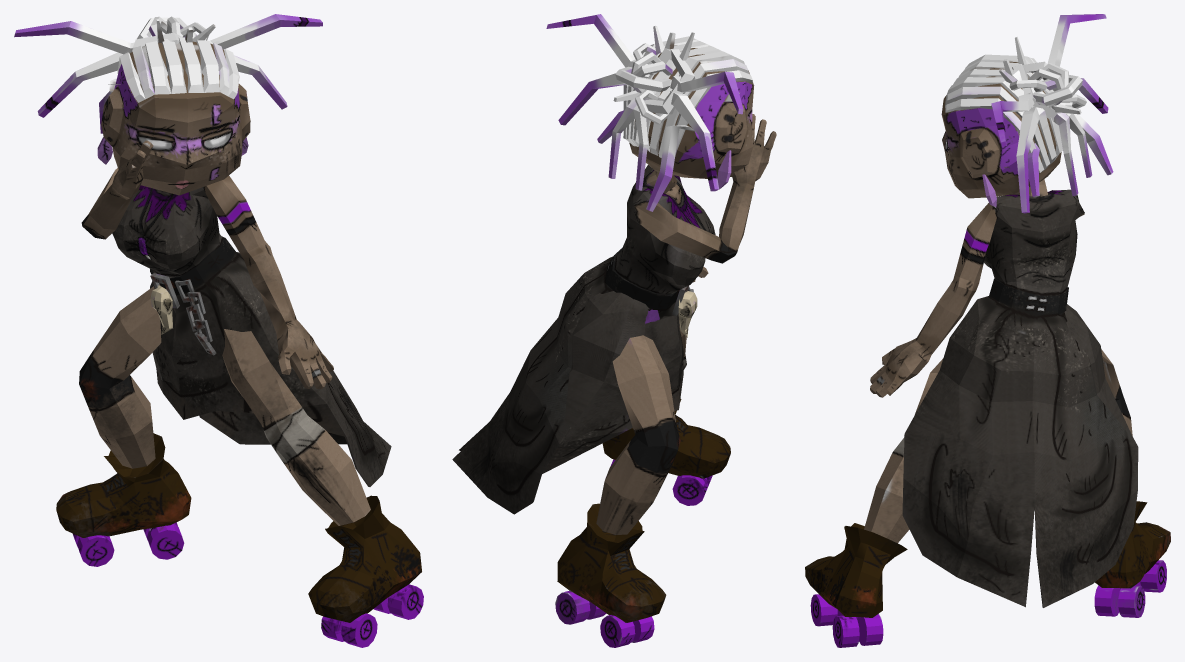
Rendered from bruja_000035.obj.
3 renders of one model, left to right at view 1: azimuth 30°, elevation 25°; view 2: azimuth 150°, elevation 25°; view 3: azimuth 270°, elevation 25°, orthographic. The views are drawn at different scales.
Parts seen in each view (by area): view 1: Bruja_Plane.001; view 2: Bruja_Plane.001; view 3: Bruja_Plane.001.
Part boxes in pixels (x1,y1,x2,y2): Bruja_Plane.001: [14, 14, 423, 647]; Bruja_Plane.001: [452, 14, 776, 647]; Bruja_Plane.001: [805, 14, 1170, 647].
Size of the model in its own units: 9.25 by 15.44 by 9.24.
